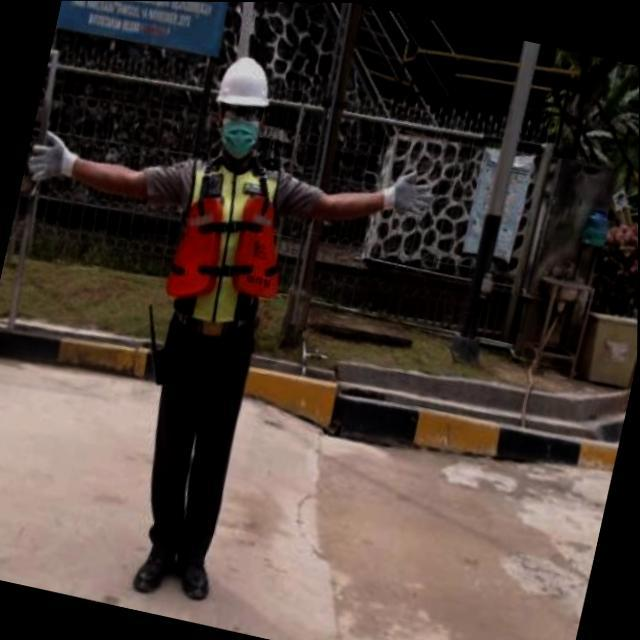goggles_on: (220, 104, 264, 126)
